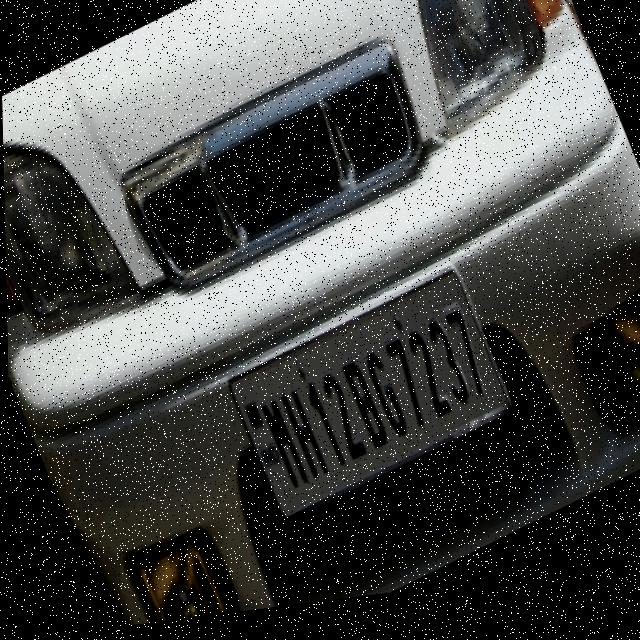license_plate: (223, 273, 514, 535)
